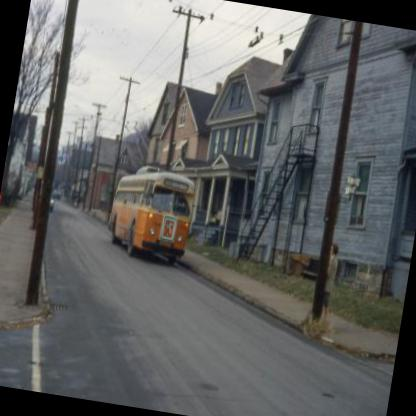bus: (102, 160, 198, 266)
